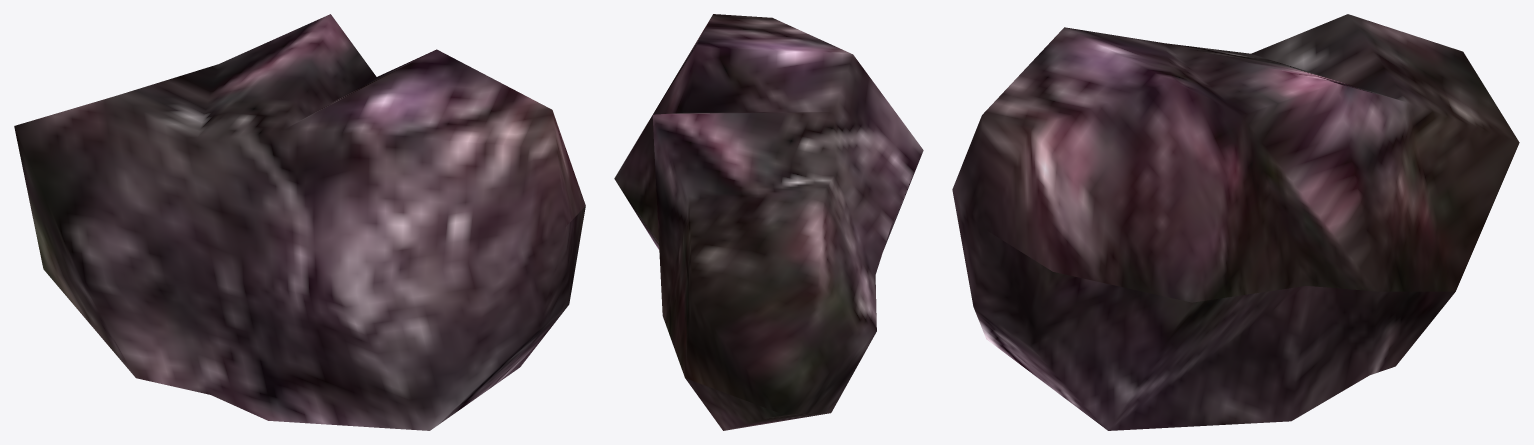
Rendered from condra_7_arm_right_2.glb.
3 renders of one model, left to right at view 1: azimuth 30°, elevation 25°; view 2: azimuth 150°, elevation 25°; view 3: azimuth 270°, elevation 25°, orthographic. The views are drawn at different scales.
Parts seen in each view (by area): view 1: model_condra_7_arm_right_2; view 2: model_condra_7_arm_right_2; view 3: model_condra_7_arm_right_2.
Boxes of the visible parts, x1,y1,x2,y2 form: model_condra_7_arm_right_2: [14, 14, 585, 430]; model_condra_7_arm_right_2: [614, 14, 923, 430]; model_condra_7_arm_right_2: [952, 14, 1519, 430].
Size of the model in its own units: 0.5412 by 0.4912 by 0.6774.
1 material, 1 textured.
